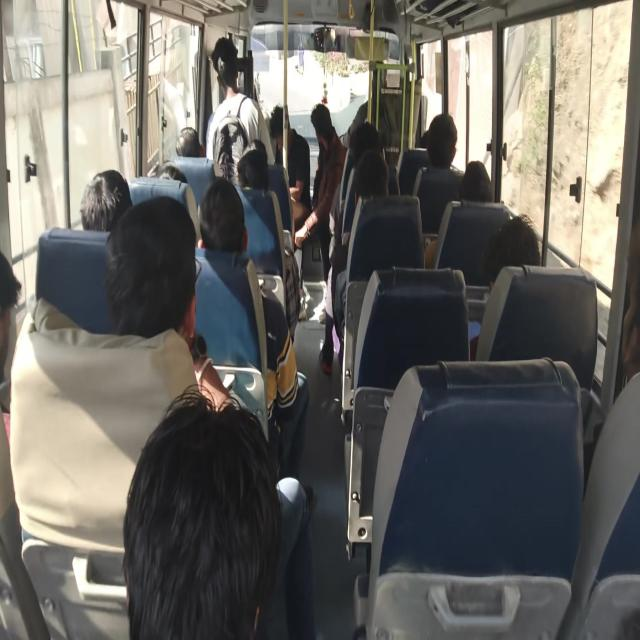person: (121, 392, 282, 638), (103, 194, 198, 343), (300, 101, 347, 296), (429, 159, 497, 273), (413, 112, 465, 240), (481, 214, 542, 285), (616, 210, 640, 386), (197, 176, 246, 254), (1, 245, 22, 408), (79, 170, 132, 233), (351, 146, 389, 205), (426, 111, 458, 169), (210, 36, 240, 90), (237, 142, 270, 191), (348, 120, 382, 166), (458, 159, 493, 201), (176, 126, 203, 158), (152, 161, 188, 183), (268, 106, 286, 135), (249, 138, 268, 159), (418, 130, 431, 150)
